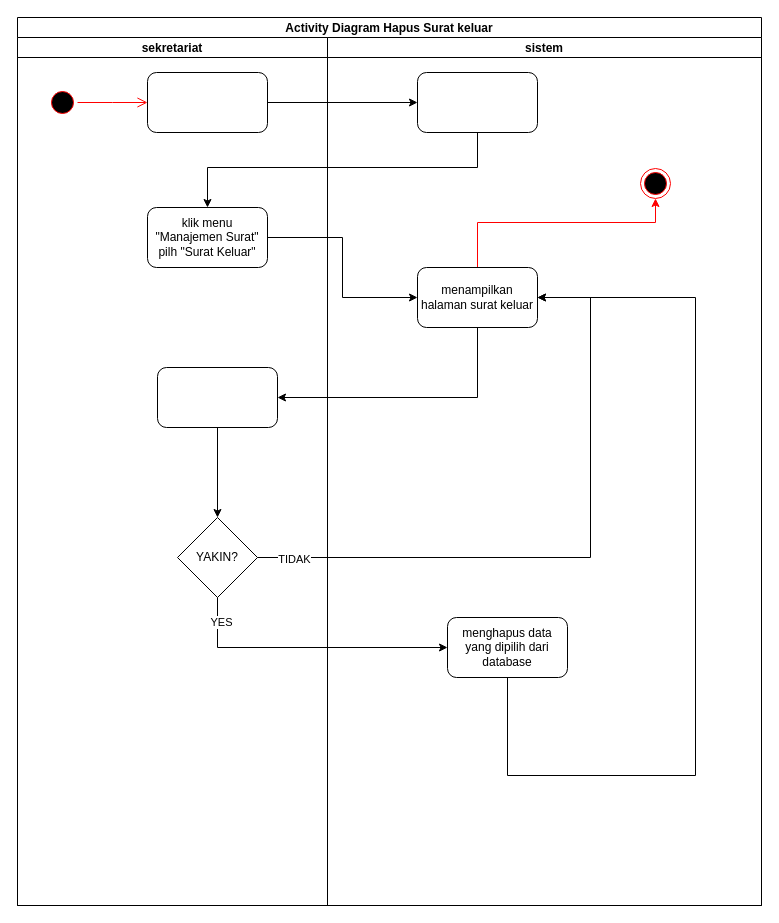
Some shapes in this 779 by 923 pixel diagram are drawn without their labels. Each missing label, with the centre of its shape:
klik "hapus" pada data surat masuk di table daftar surat keluar: pixel 217 397
Login: pixel 207 102
menampilkan halaman home Dashboard: pixel 477 102
